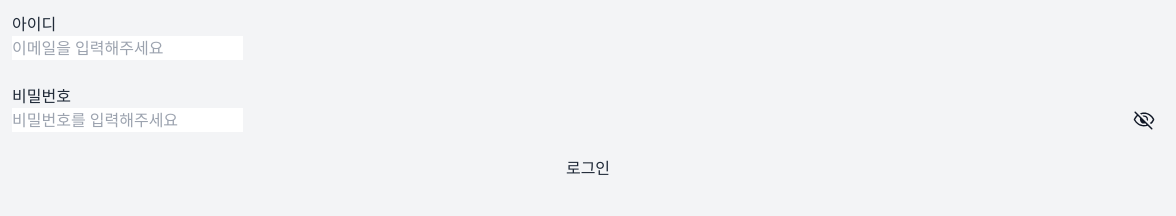
Scenario: 로그인 폼 › 유효성 검사 › 잘못된 이메일 형식에 대해 에러 메시지가 표시되는지 테스트
The width and height of the screenshot is (1176, 216).
Type "invalid-email" into the field with placeholder "이메일을 입력해주세요" at (128, 48), box x1=12 y1=36 x2=243 y2=60
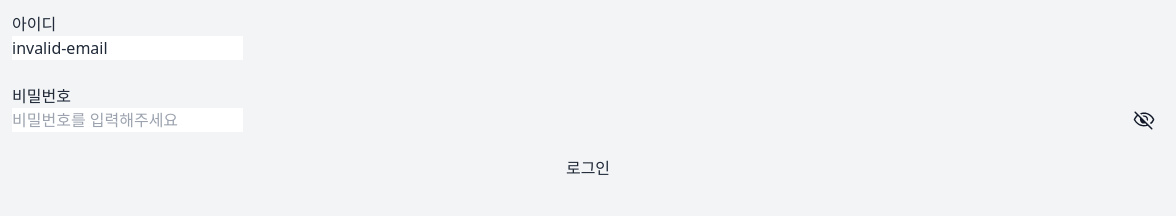
Type "test1234*" into the password field with placeholder "비밀번호를 입력해주세요" at (128, 120), box x1=12 y1=108 x2=243 y2=132
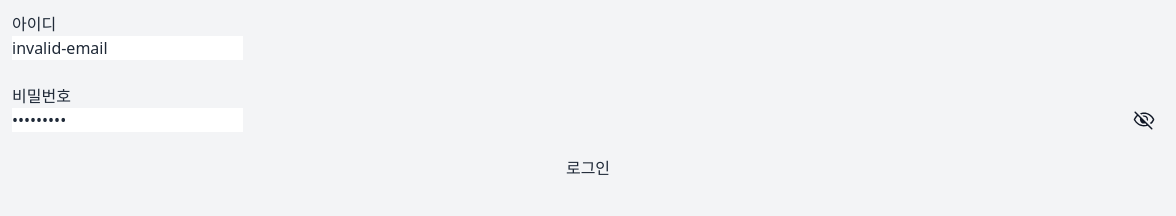
Submit the form from the button "로그인", box x1=12 y1=156 x2=1164 y2=180
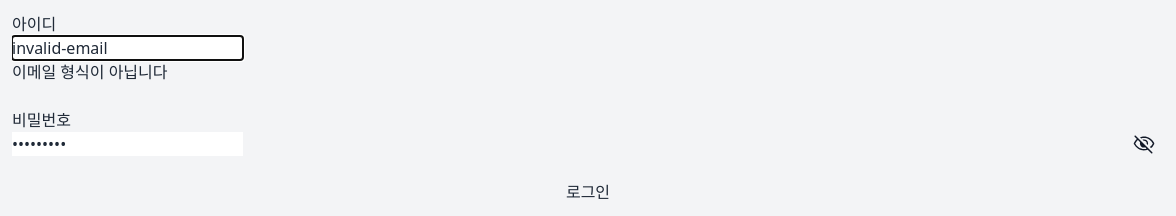
Now the text "이메일 형식이 아닙니다" is shown, box x1=12 y1=61 x2=168 y2=83
